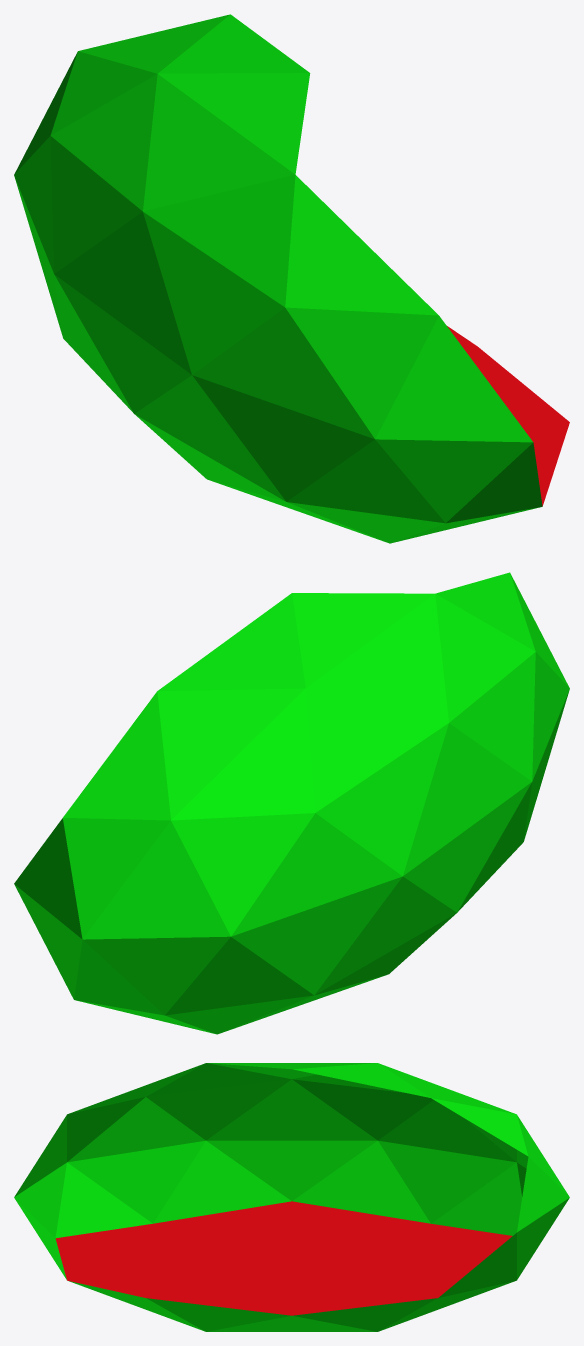
File: nuezB.fbx
The picture shows the model from 3 angles, top to bottom: view 1: azimuth 30°, elevation 25°; view 2: azimuth 150°, elevation 25°; view 3: azimuth 270°, elevation 25°; orthographic projection. The views are drawn at different scales.
Visible parts, largest first — view 1: Icosphere.001; view 2: Icosphere.001; view 3: Icosphere.001.
Boxes of the visible parts, x1,y1,x2,y2 form: Icosphere.001: [14, 14, 569, 543]; Icosphere.001: [14, 572, 569, 1034]; Icosphere.001: [14, 1063, 569, 1331].
Size of the model in its own units: 2 by 3.93 by 1.8.
